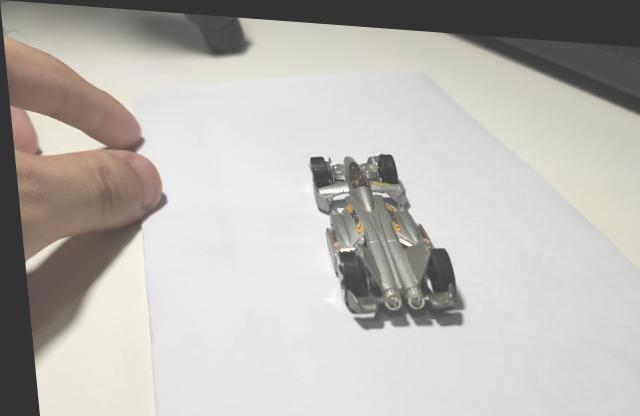05_DC121: (307, 149, 460, 320)
